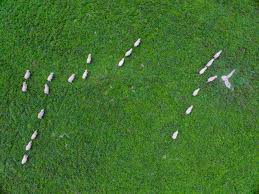sheep: (29, 129, 41, 141), (213, 49, 225, 60), (36, 107, 45, 120), (205, 74, 215, 84), (225, 68, 234, 79), (205, 58, 215, 67), (170, 129, 179, 139), (124, 48, 133, 58), (199, 65, 207, 76), (118, 57, 126, 68), (185, 105, 193, 115), (46, 72, 54, 82), (20, 153, 27, 164), (134, 37, 142, 46), (24, 142, 32, 151), (223, 79, 230, 89), (193, 87, 200, 97), (24, 69, 31, 79), (86, 53, 92, 64), (82, 70, 88, 81), (68, 73, 75, 82), (20, 82, 26, 92), (44, 84, 48, 95)
